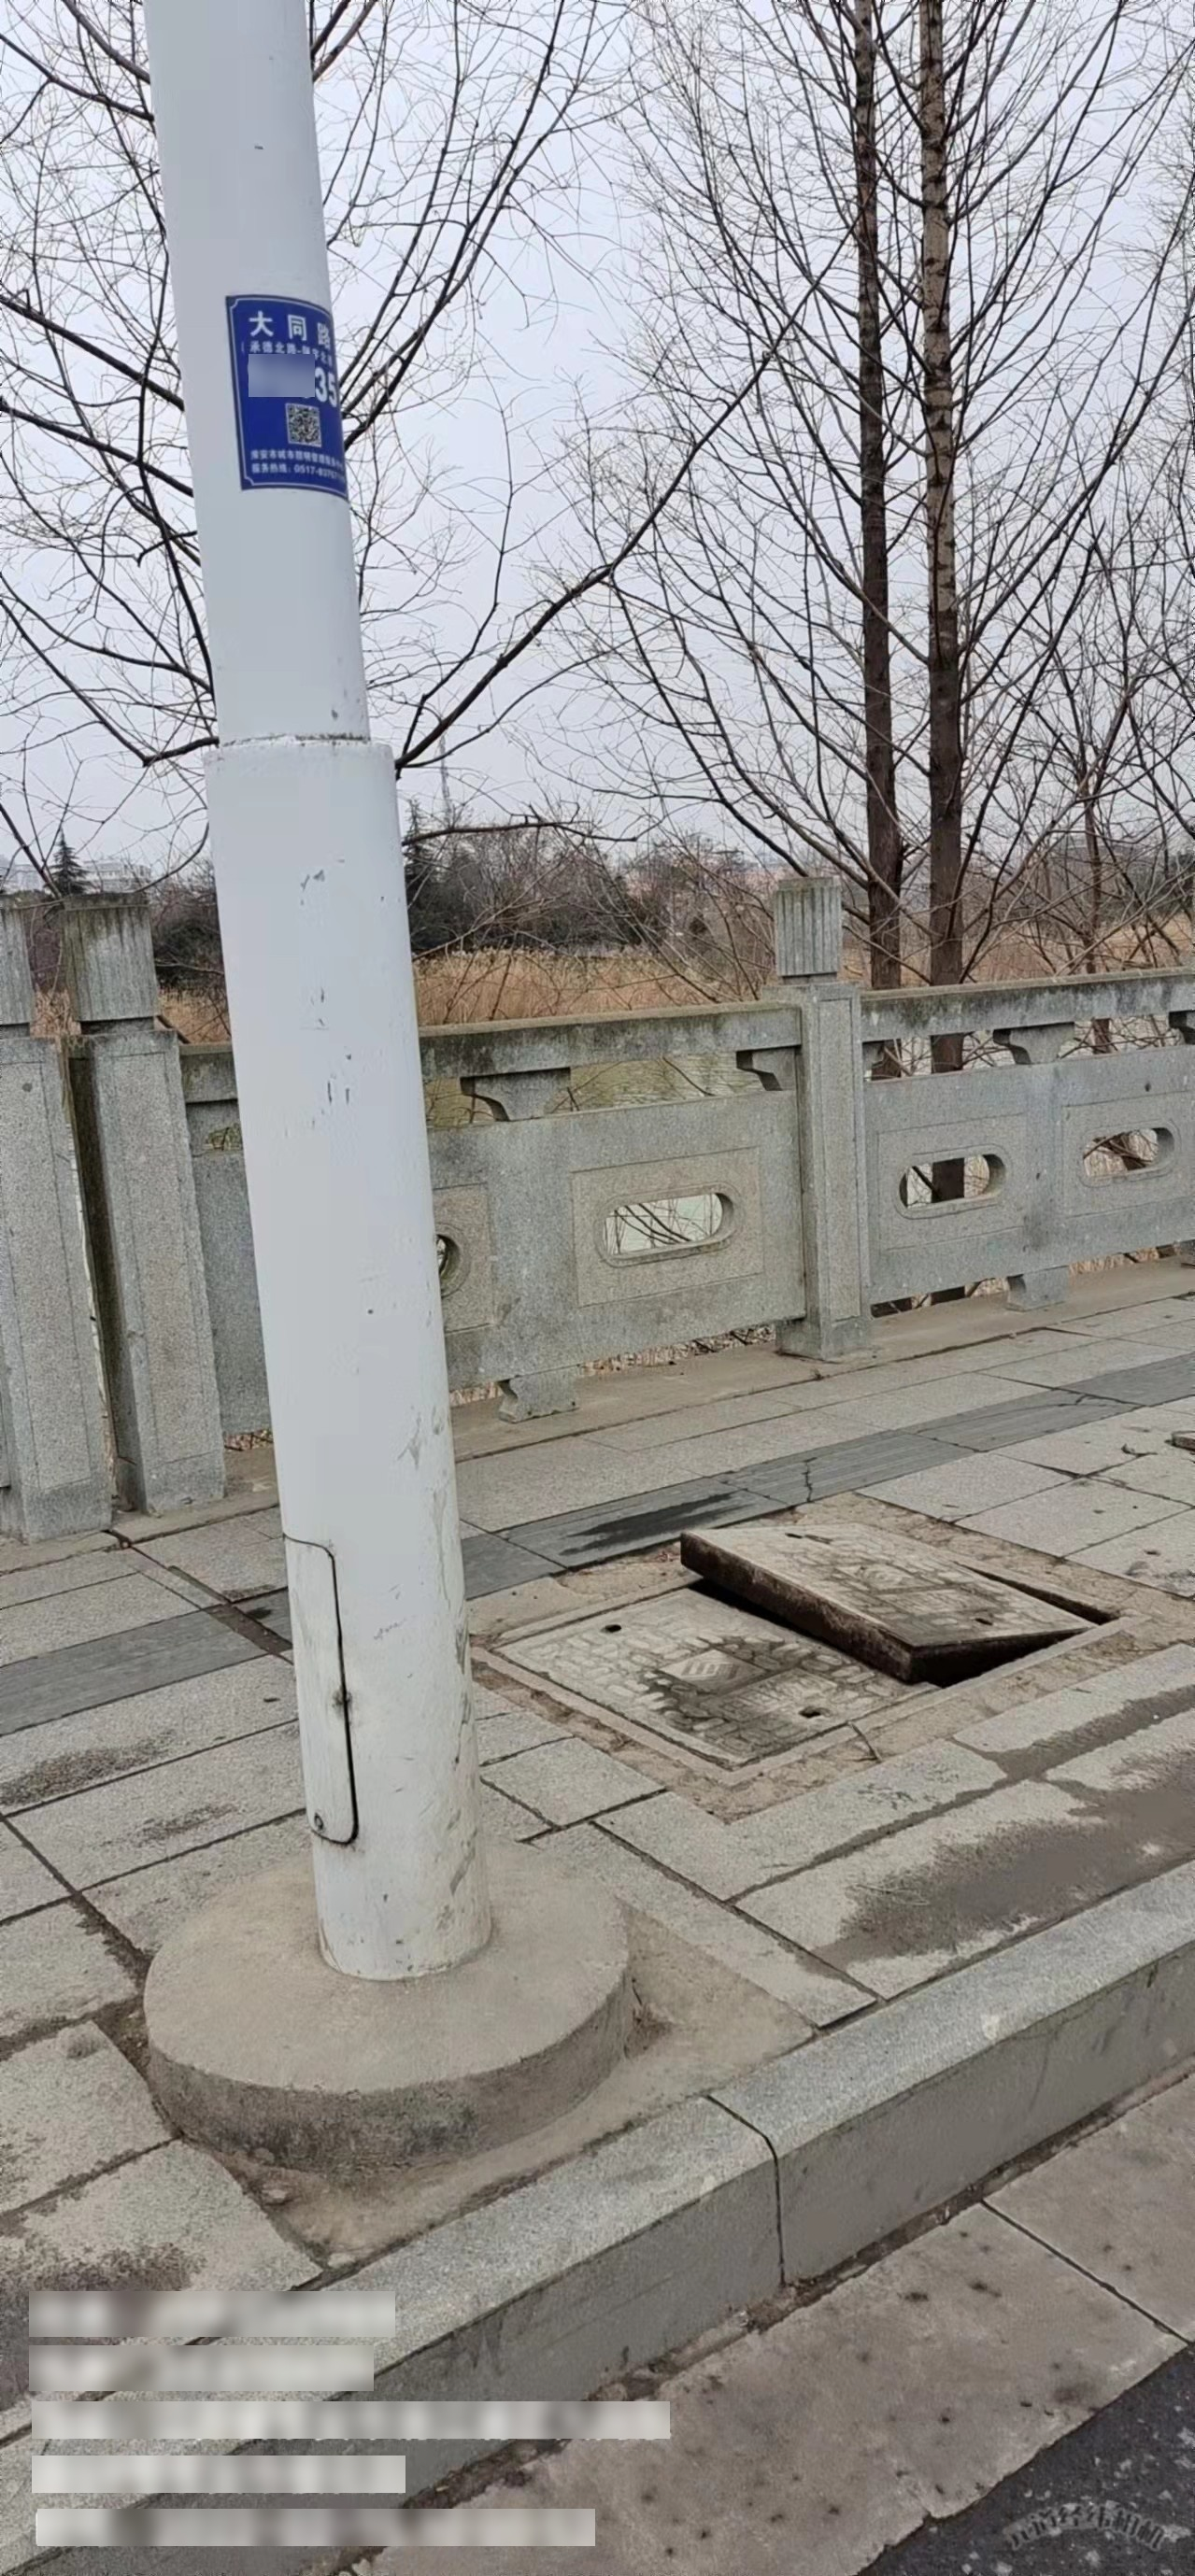well: (467, 1502, 1129, 1751)
